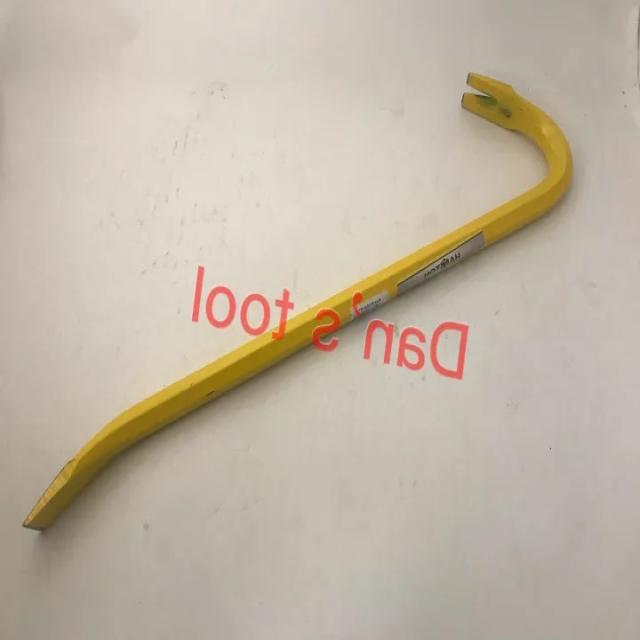Linggis: (23, 72, 572, 532)
